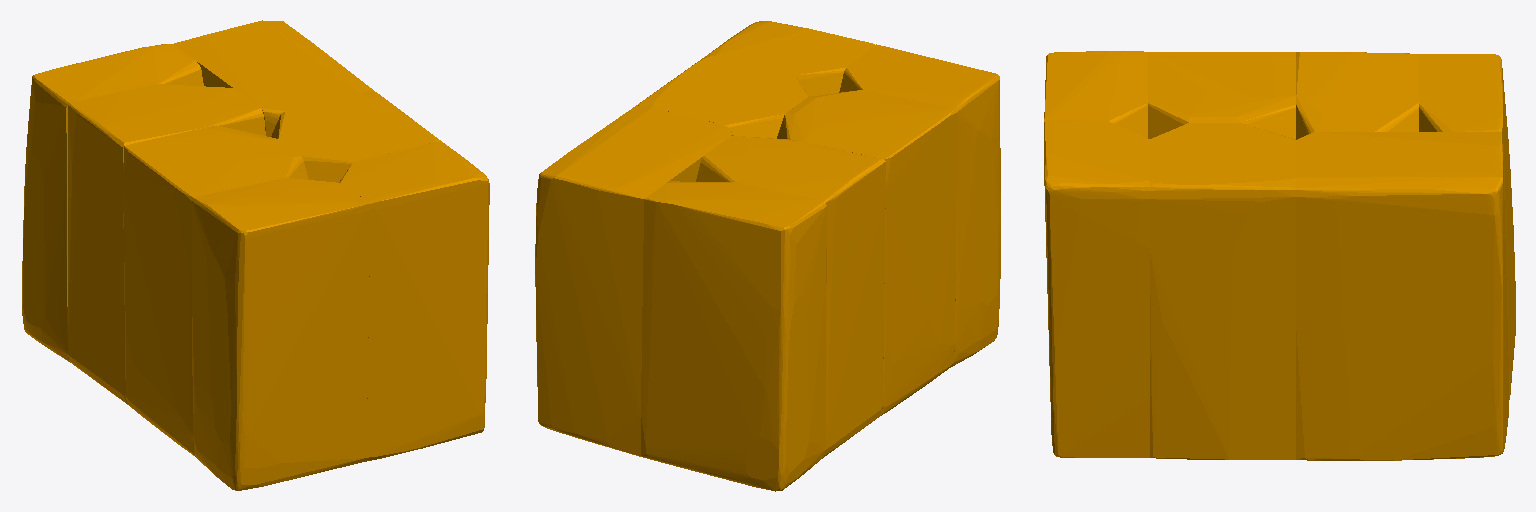
URDF robot description (061_foam_brick):
<?xml version="1.0" encoding="UTF-8"?>
<robot name="061_foam_brick">
	<link name="base">
		<collision>
			<geometry>
				<mesh filename="..\vhacd\061_foam_brick_vhacd.obj" scale="1.0 1.0 1.0"/>
			</geometry>
			<origin xyz="0 0 0"/>
			<contact_coefficients mu="0.24" />
		</collision>
		<visual>
			<geometry>
				<mesh filename="..\vhacd\061_foam_brick_vhacd.obj" scale="1.0 1.0 1.0"/>
			</geometry>
			<origin xyz="0 0 0"/>
		</visual>
		<inertial>
			<mass value="0"/>
			<inertia ixx="0.0" ixy="-0.0" ixz="-0.0" iyy="0.0" iyz="0.0" izz="0.0" />
			<origin xyz="-0.018625315738555866 0.01695487790893088 0.024644150546286676"/>
		</inertial>
	</link>
</robot>

--- Render facts (derived) ---
The picture shows the robot from 3 angles, left to right: view 1: azimuth 30°, elevation 25°; view 2: azimuth 150°, elevation 25°; view 3: azimuth 270°, elevation 25°; orthographic projection.
Model 061_foam_brick with 1 links and 0 joints (none), rooted at base, posed all joints at 0.
Links seen in each view (by area): view 1: base; view 2: base; view 3: base.
Link boxes in pixels (x1,y1,x2,y2): base: (22, 20, 489, 490); base: (535, 21, 1000, 491); base: (1044, 51, 1515, 460).
Bounding box of the posed robot: 0.053 × 0.0782 × 0.0515 m (x, y, z).
Meshes: 1 distinct files referenced, 1 mesh visuals loaded (1 OBJ).